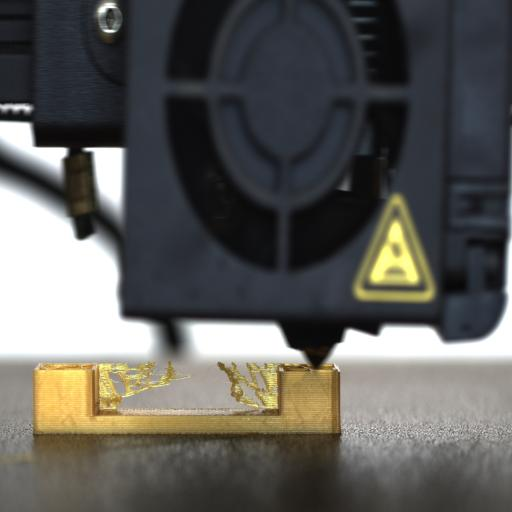stringing: (99, 362, 278, 410)
